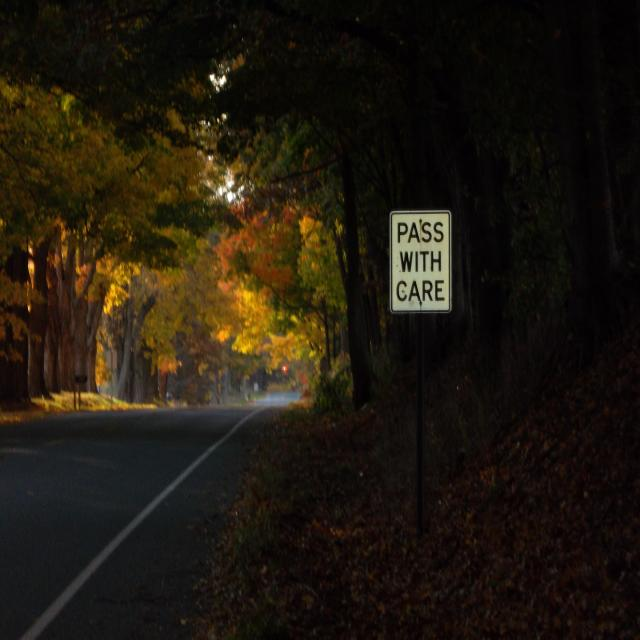regulatory: (390, 203, 454, 316)
